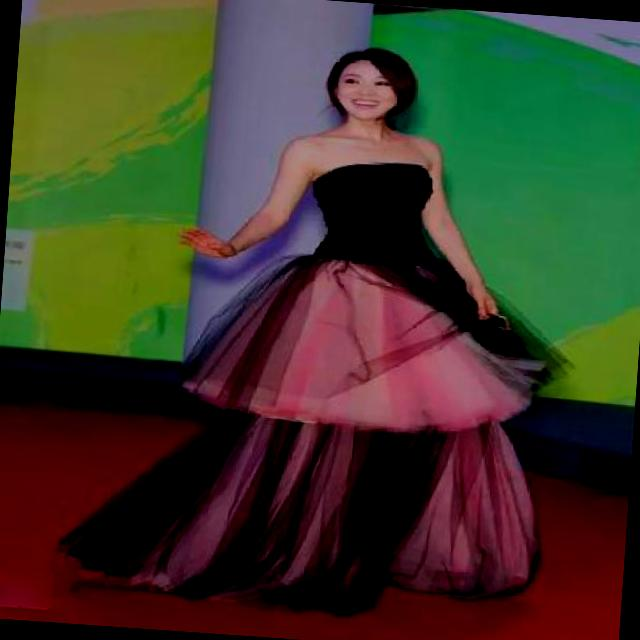Person: (111, 11, 576, 640)
